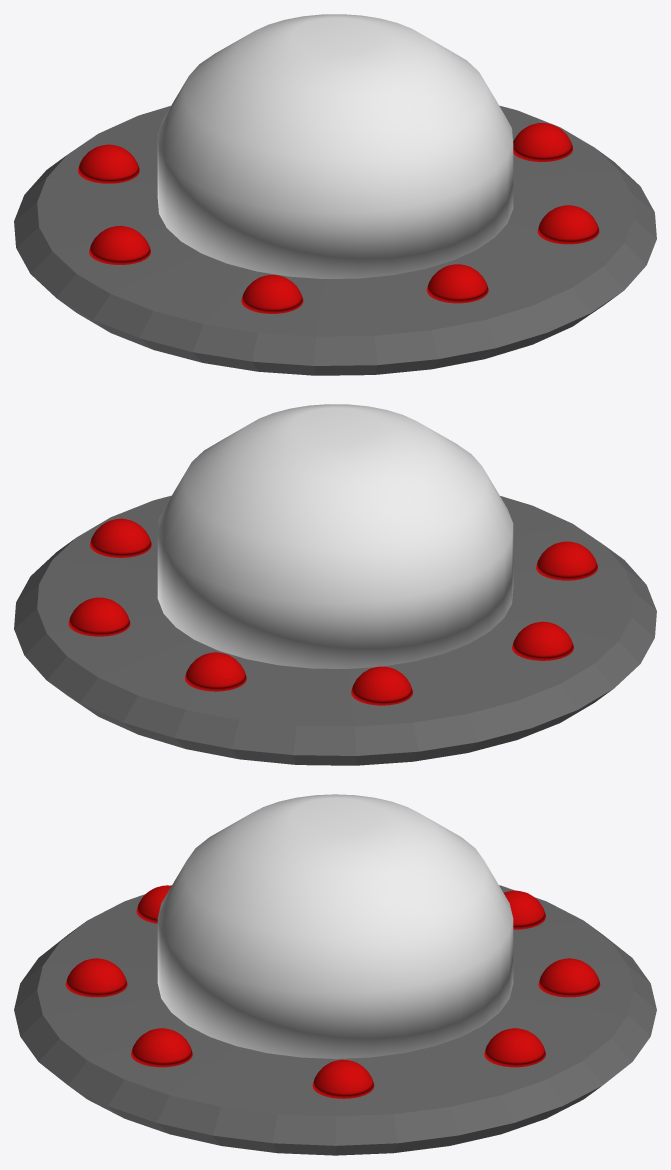
Rendered from RedShip.fbx.
The picture shows the model from 3 angles, top to bottom: view 1: azimuth 30°, elevation 25°; view 2: azimuth 150°, elevation 25°; view 3: azimuth 270°, elevation 25°; orthographic projection.
Visible parts, largest first — view 1: Cylinder; view 2: Cylinder; view 3: Cylinder.
Part boxes in pixels (x1,y1,x2,y2): Cylinder: (14,14,656,375); Cylinder: (14,404,656,765); Cylinder: (14,794,656,1155).
Size of the model in its own units: 1078 by 502 by 1078.
